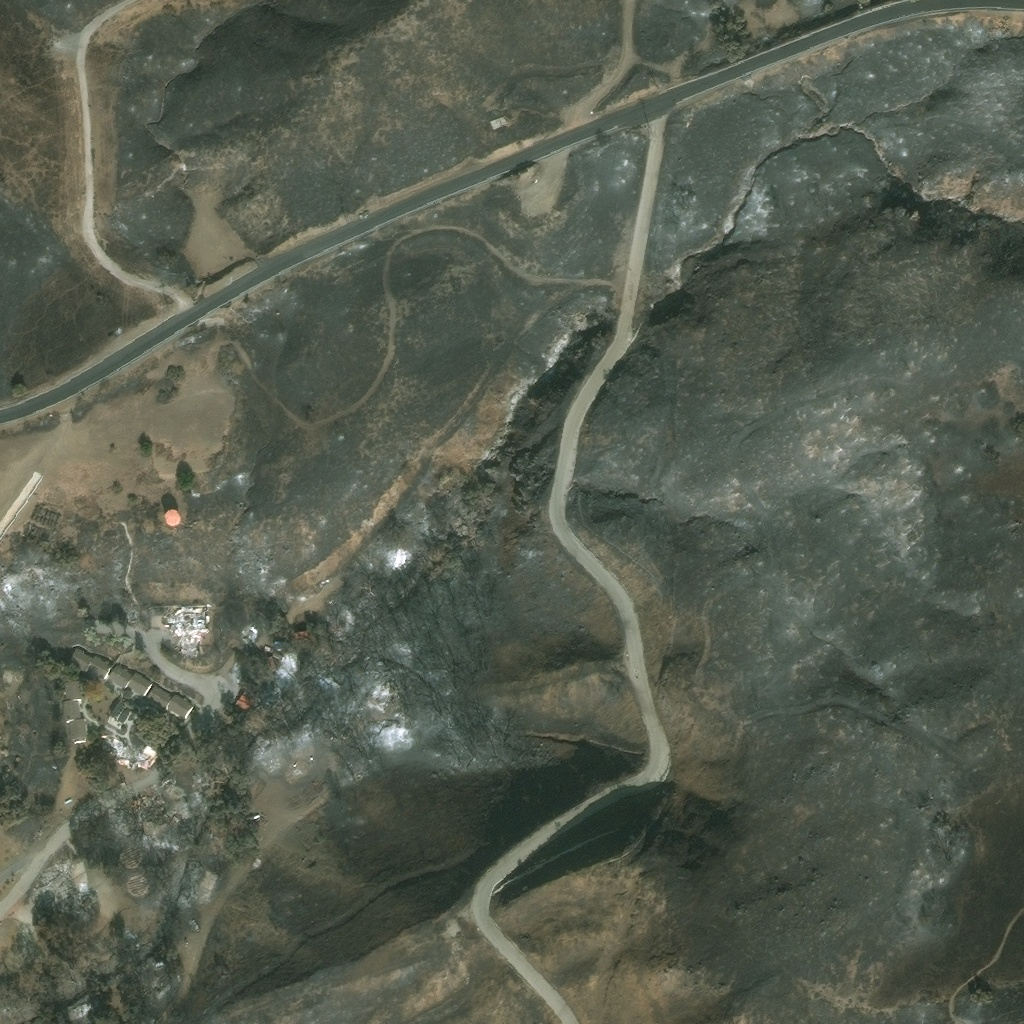0 no-damage: (65, 643, 94, 671), (146, 681, 174, 708), (86, 652, 112, 678), (109, 662, 134, 687), (127, 670, 151, 694), (168, 693, 192, 716), (161, 509, 181, 528), (62, 699, 79, 718), (70, 718, 86, 738), (64, 680, 80, 698), (489, 116, 506, 131)
1 minor-damage: (234, 692, 254, 711), (293, 628, 308, 637)
3 destroyed: (32, 852, 93, 920), (166, 602, 209, 652), (101, 728, 125, 752), (66, 1003, 94, 1023), (136, 742, 158, 767), (138, 782, 163, 804), (285, 758, 308, 781), (115, 744, 138, 766), (246, 775, 265, 797), (126, 874, 148, 893), (240, 621, 259, 641), (122, 607, 139, 621), (377, 695, 389, 706), (4, 696, 13, 705), (302, 853, 311, 862), (14, 668, 22, 676)
4 un-classified: (518, 188, 536, 201)
